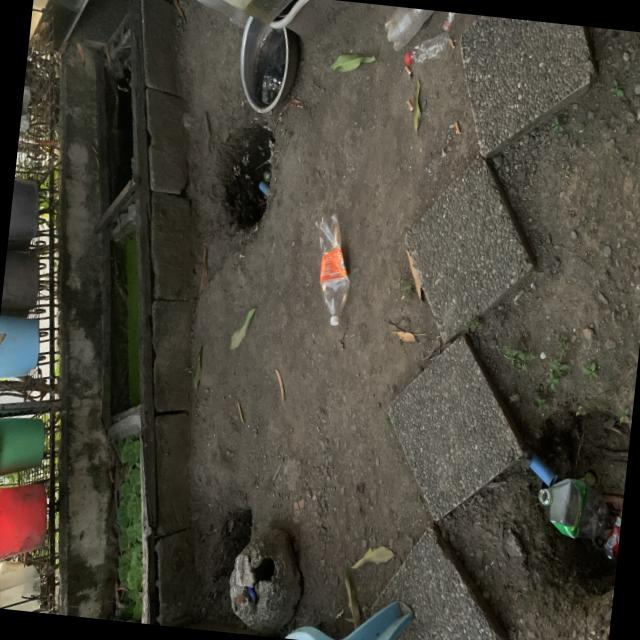Bottle: (314, 214, 348, 326)
